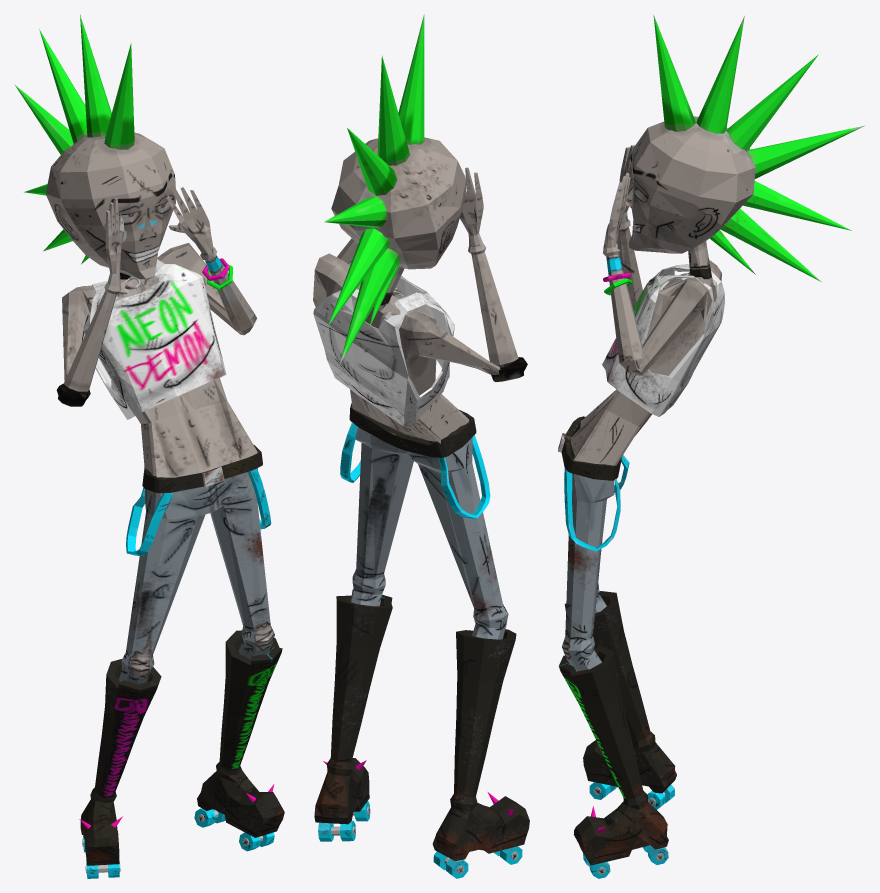
File: punkAnimation_000018.obj
3 renders of one model, left to right at view 1: azimuth 30°, elevation 25°; view 2: azimuth 150°, elevation 25°; view 3: azimuth 270°, elevation 25°, orthographic. The views are drawn at different scales.
Visible parts, largest first — view 1: Cube.004_Cube.003; view 2: Cube.004_Cube.003; view 3: Cube.004_Cube.003.
Boxes of the visible parts, x1,y1,x2,y2 form: Cube.004_Cube.003: [14, 14, 284, 878]; Cube.004_Cube.003: [313, 14, 529, 878]; Cube.004_Cube.003: [558, 15, 864, 878].
Bounding box in the file's own units: 1.93 × 7.33 × 2.52.
